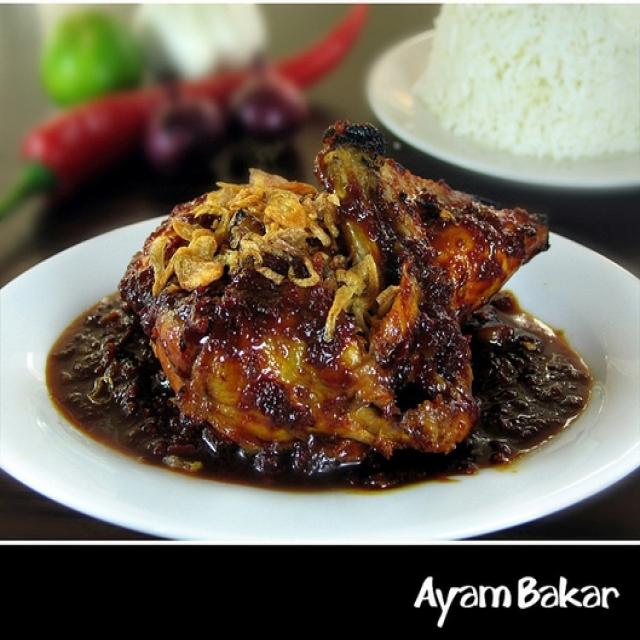鸡肉料理 含炸鸡: (23, 114, 613, 546)
